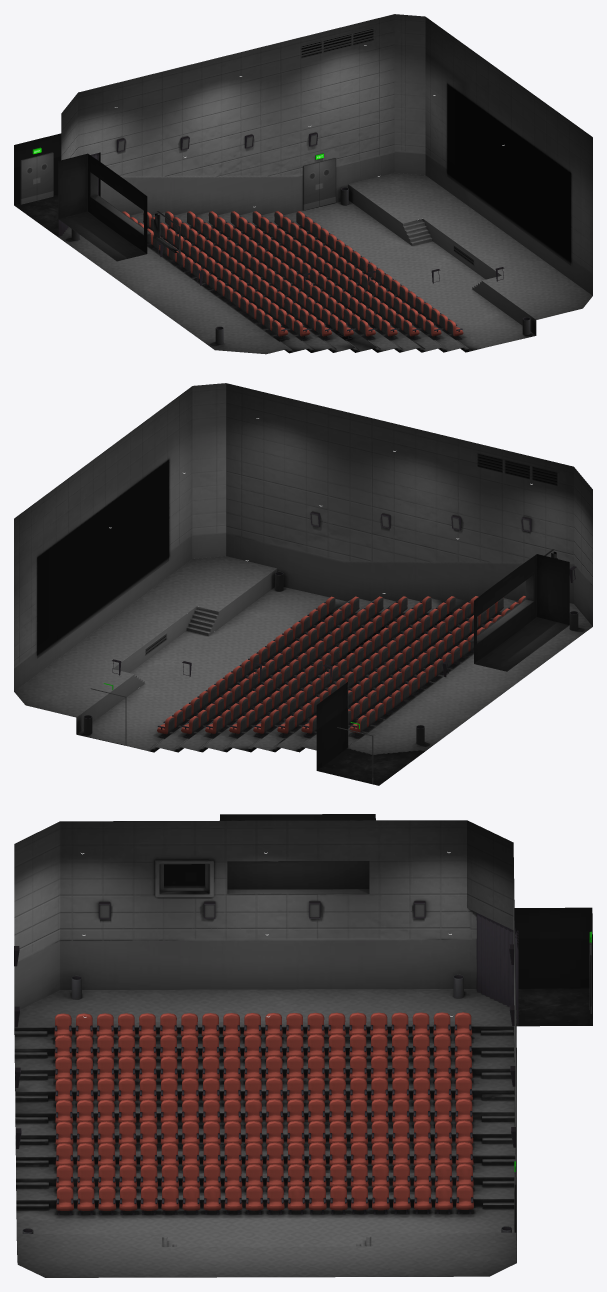
3 views of the same model, one above another, from view 1: azimuth 30°, elevation 25°; view 2: azimuth 150°, elevation 25°; view 3: azimuth 270°, elevation 25° (orthographic). The views are drawn at different scales.
Parts seen in each view (by area): view 1: walls, seats; view 2: walls, seats; view 3: walls, seats.
Part boxes in pixels (box(x1,y1,x2,y2)): walls: box(14, 14, 592, 354); seats: box(20, 45, 530, 344); walls: box(14, 383, 592, 785); seats: box(83, 418, 578, 783); walls: box(14, 814, 592, 1277); seats: box(14, 852, 591, 1233).
Size of the model in its own units: 23.19 by 9.46 by 21.07.
Materials: 2 (2 with a texture image).
